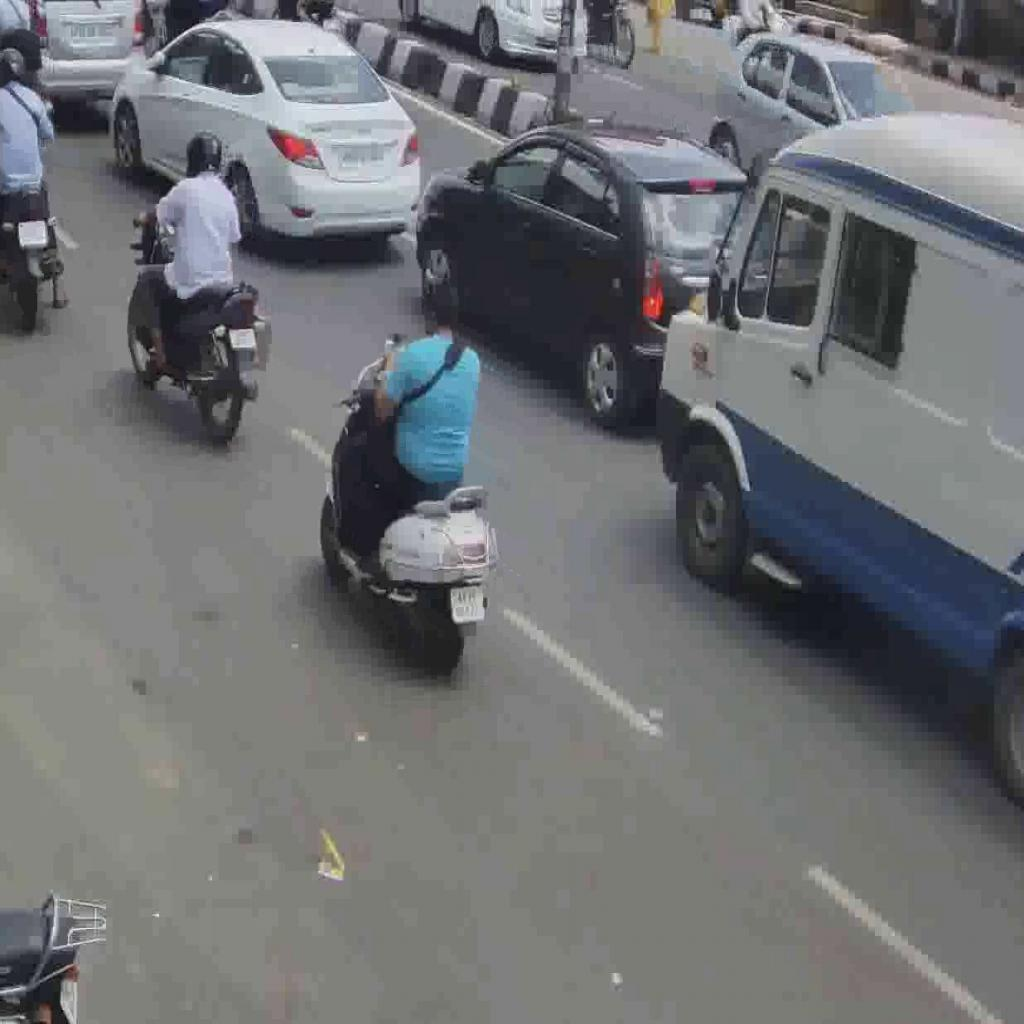bike: (322, 340, 499, 672), (127, 212, 270, 444)
helmet: (180, 126, 226, 185)
lisc: (450, 585, 486, 625), (229, 326, 257, 352)
no_helmet: (414, 276, 464, 344)
rider: (342, 275, 482, 572), (130, 126, 241, 385)
